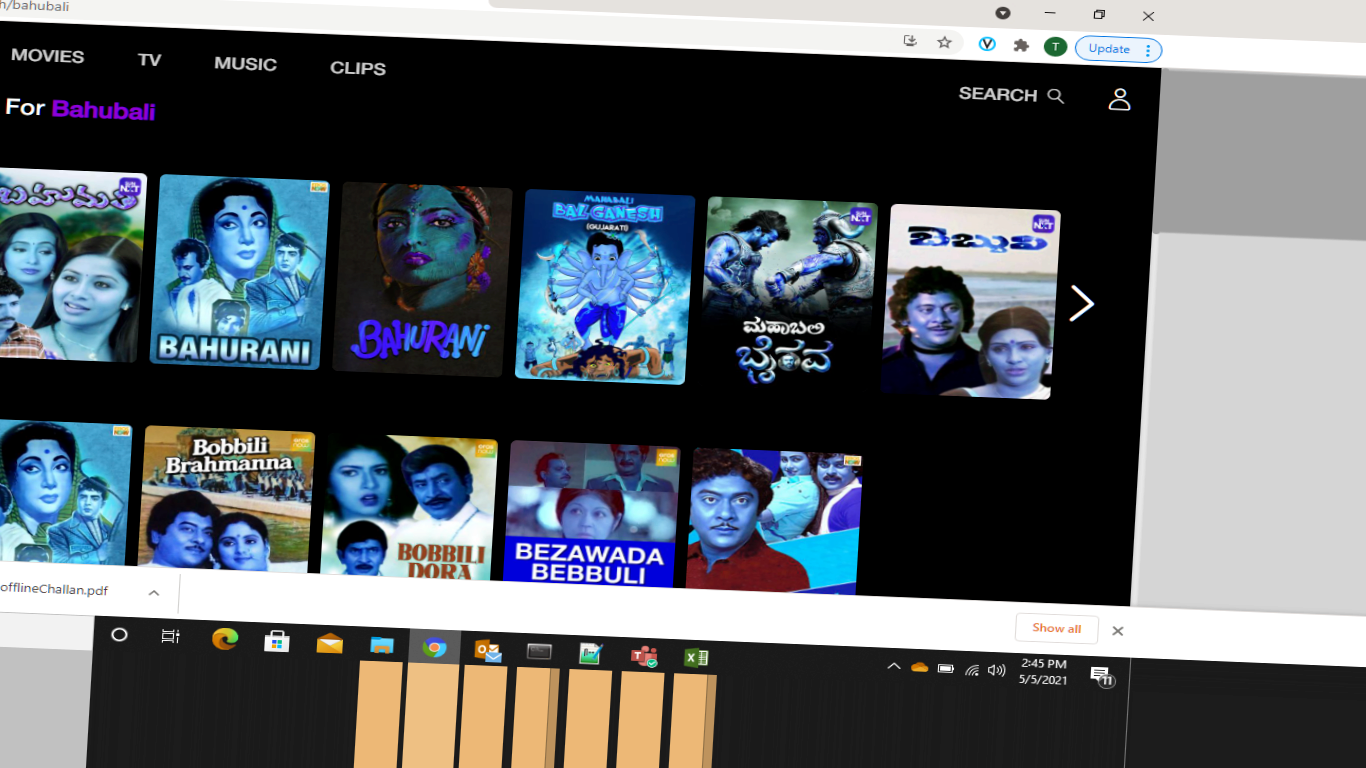profileicon: (1093, 75, 1142, 123)
resultsfound: (1, 81, 177, 156)
searchicon: (956, 67, 1090, 123)
